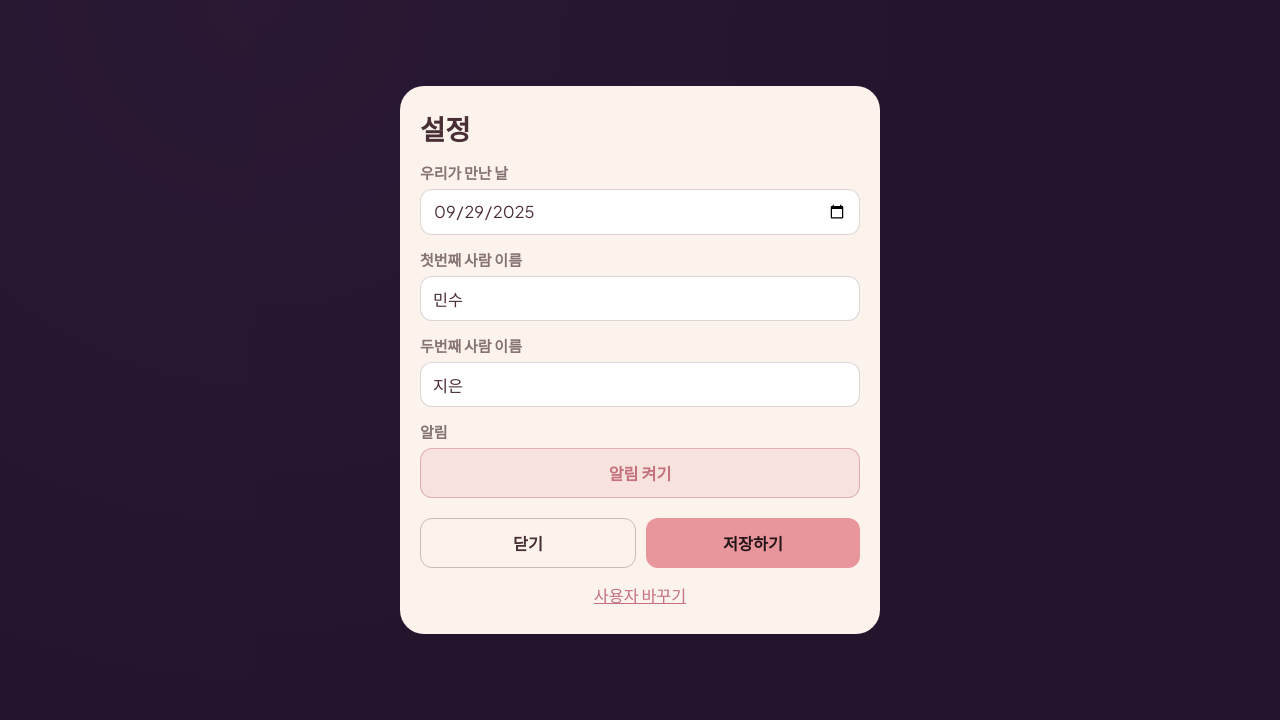
it: SettingsModal › shows an error when saving fails
Click the button "저장하기" at coordinates (753, 543), box [646,518,860,568]
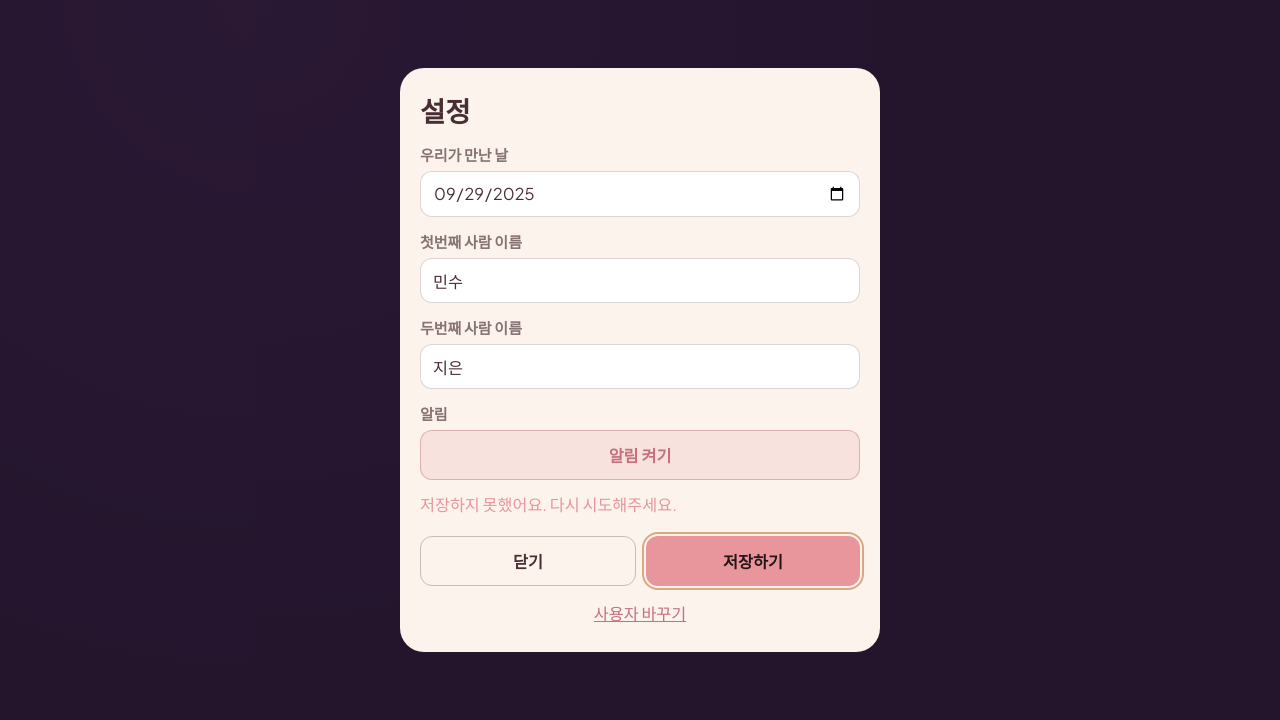
expect the text "저장하지 못했어요. 다시 시도해주세요." is shown: met, box [420,494,677,515]
